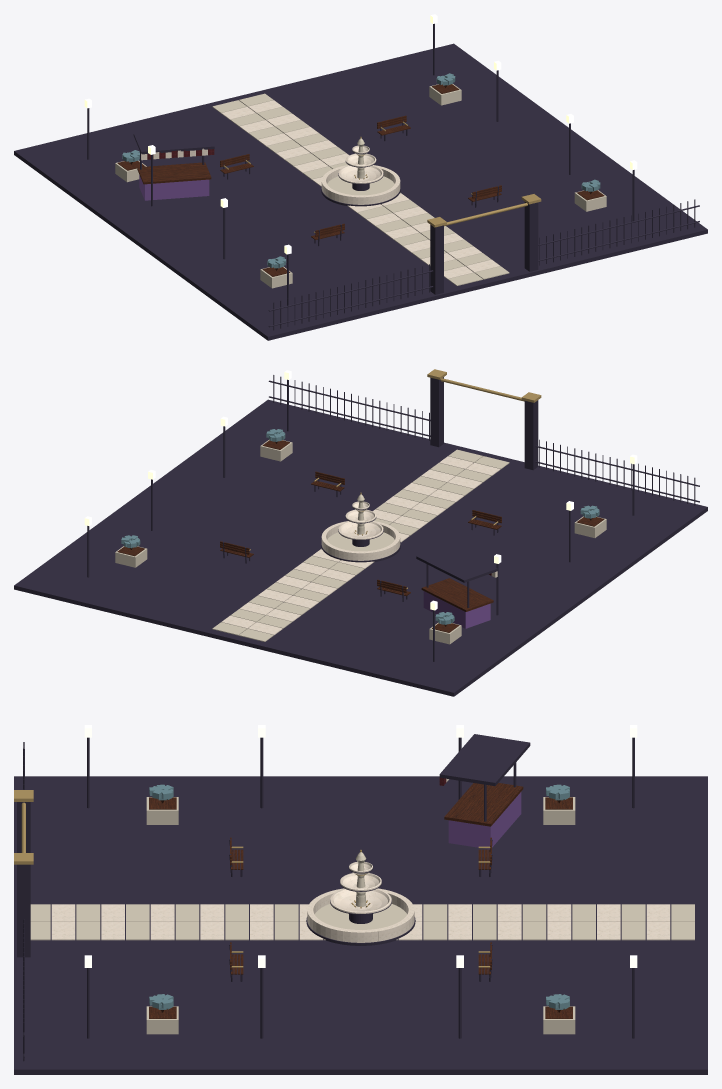
File: plaza.glb
3 renders of one model, top to bottom at view 1: azimuth 30°, elevation 25°; view 2: azimuth 150°, elevation 25°; view 3: azimuth 270°, elevation 25°, orthographic. The views are drawn at different scales.
Parts seen in each view (by area): view 1: Runtime_plaza; view 2: Runtime_plaza; view 3: Runtime_plaza.
Boxes of the visible parts, x1=… form: Runtime_plaza: x1=14, y1=14, x2=707, y2=340; Runtime_plaza: x1=14, y1=369, x2=707, y2=696; Runtime_plaza: x1=14, y1=725, x2=707, y2=1074.
Bounding box in the file's own units: 28 × 4.56 × 28.
Materials: 9 (3 with a texture image).
